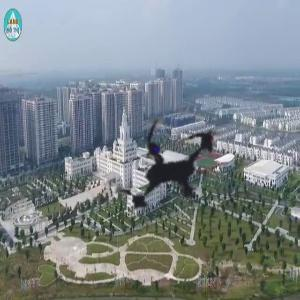drone: (64, 64, 278, 278)
